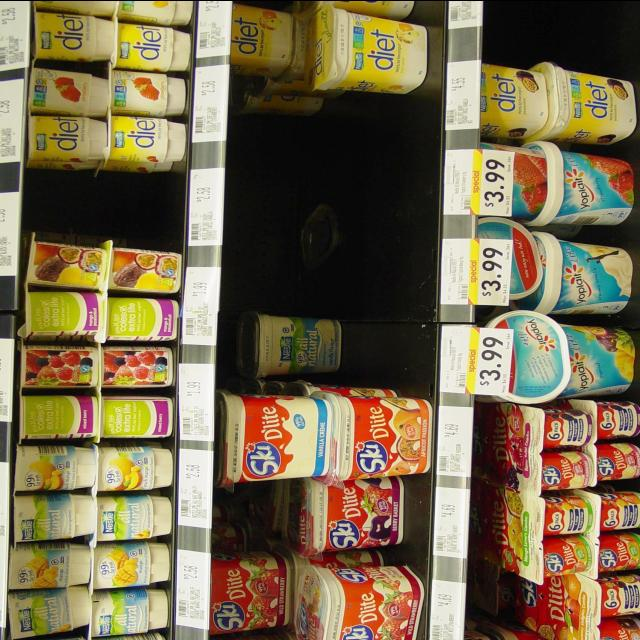empty_space: (237, 111, 416, 295), (38, 178, 176, 234), (493, 0, 632, 51)
